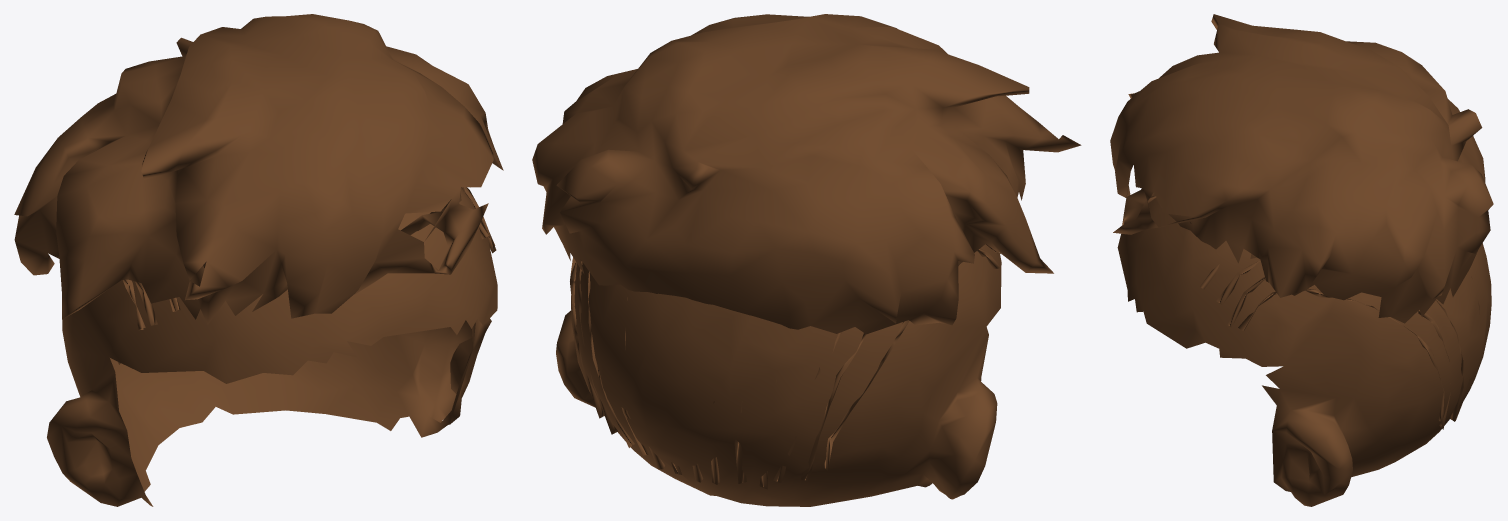
File: short-fringe.glb
3 renders of one model, left to right at view 1: azimuth 30°, elevation 25°; view 2: azimuth 150°, elevation 25°; view 3: azimuth 270°, elevation 25°, orthographic. The views are drawn at different scales.
Parts seen in each view (by area): view 1: Hair, HairScalp, HairPulledRootStrands; view 2: Hair, HairScalp, HairPulledRootStrands; view 3: Hair, HairScalp, HairPulledRootStrands.
Boxes of the visible parts, left/top/right/bottom form: Hair: left=14, top=14, right=503, bottom=324; HairScalp: left=47, top=188, right=497, bottom=506; HairPulledRootStrands: left=117, top=187, right=496, bottom=364; Hair: left=532, top=14, right=1081, bottom=334; HairScalp: left=556, top=244, right=1001, bottom=506; HairPulledRootStrands: left=570, top=243, right=1000, bottom=489; Hair: left=1110, top=14, right=1493, bottom=323; HairScalp: left=1117, top=188, right=1491, bottom=506; HairPulledRootStrands: left=1190, top=222, right=1479, bottom=429.
Bounding box in the file's own units: 0.5441 × 0.4755 × 0.444.
